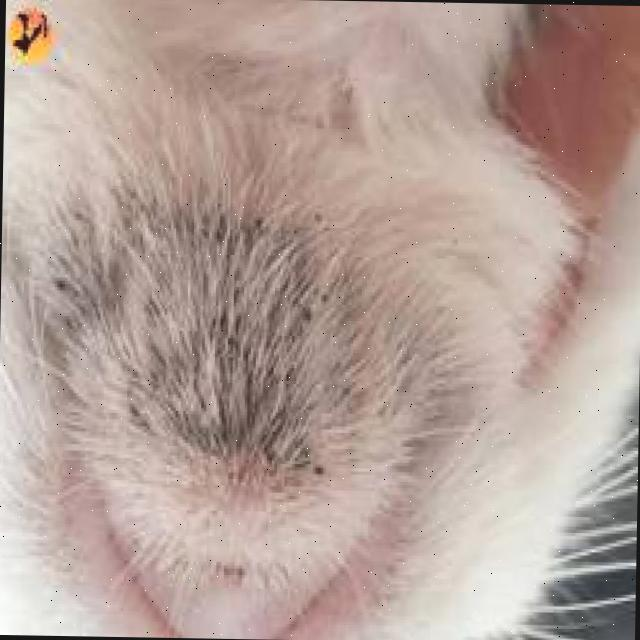cat-acne: (178, 270, 318, 401), (26, 242, 110, 349), (111, 382, 163, 442), (294, 448, 336, 492), (286, 289, 322, 338), (240, 196, 276, 243)
